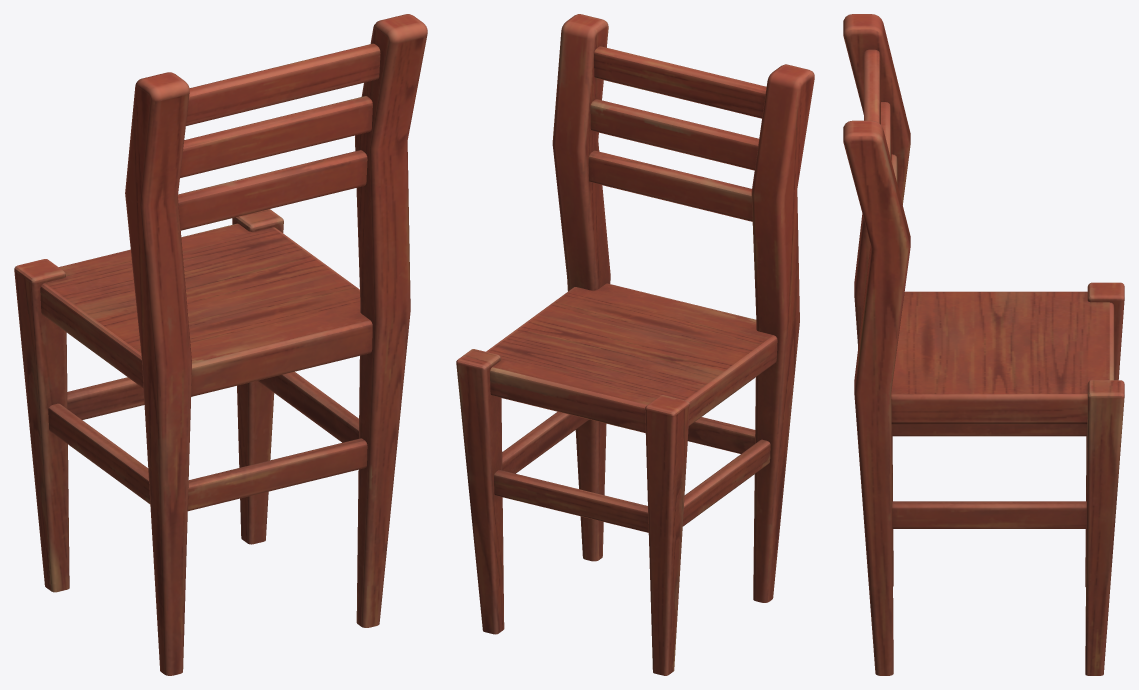
Rendered from SM_WoodenChair06.fbx.
3 renders of one model, left to right at view 1: azimuth 30°, elevation 25°; view 2: azimuth 150°, elevation 25°; view 3: azimuth 270°, elevation 25°, orthographic. The views are drawn at different scales.
Visible parts, largest first — view 1: SM_WoodenChair06_LOD0; view 2: SM_WoodenChair06_LOD0; view 3: SM_WoodenChair06_LOD0.
Part boxes in pixels (x1,y1,x2,y2): SM_WoodenChair06_LOD0: [14, 14, 427, 675]; SM_WoodenChair06_LOD0: [456, 14, 814, 675]; SM_WoodenChair06_LOD0: [843, 14, 1124, 675].
Bounding box in the file's own units: 47.73 × 45.9 × 99.84.
1 material, 1 textured.
